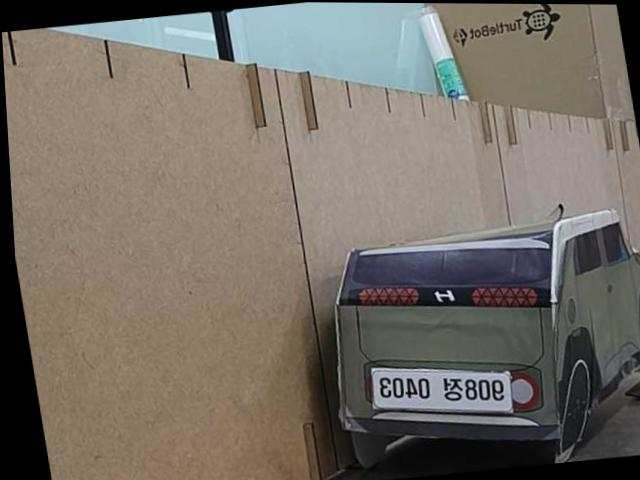car: (300, 195, 640, 480)
id: (365, 352, 519, 428)
